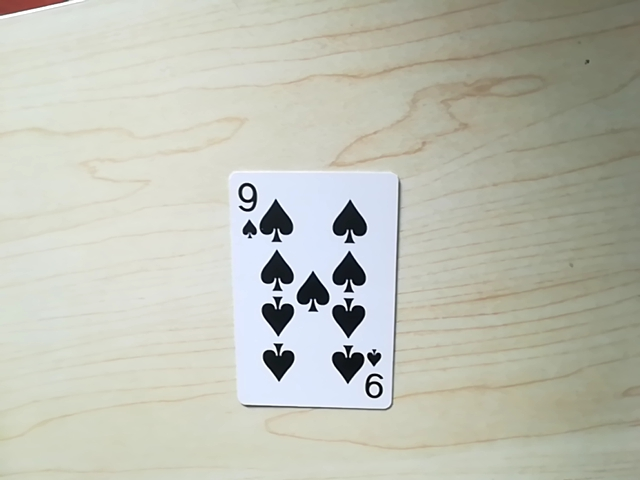ht 9: (364, 347, 393, 408), (234, 179, 258, 243)
